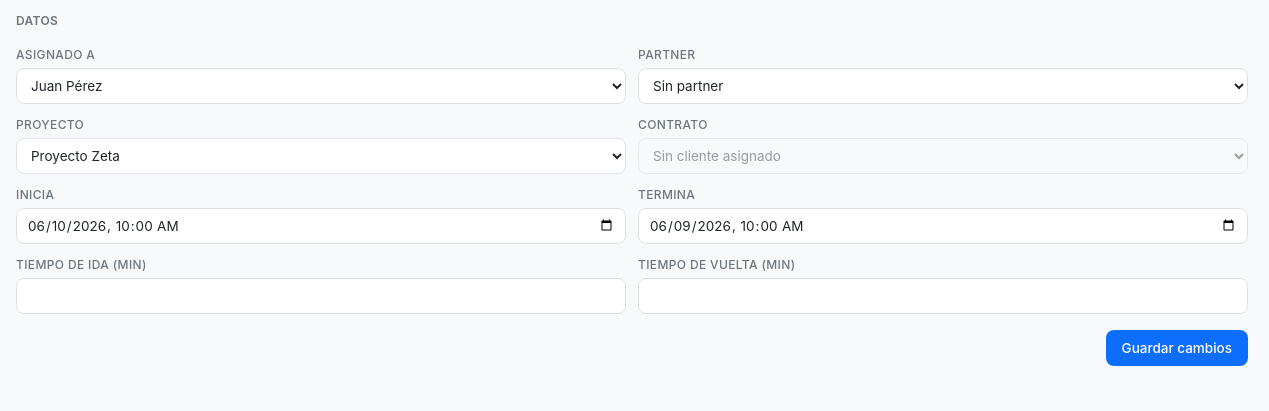
Scenario: DatosForm › shows inline error when endDate is before startDate
Click the button "Guardar cambios" at (1177, 348), box [1106,330,1248,366]
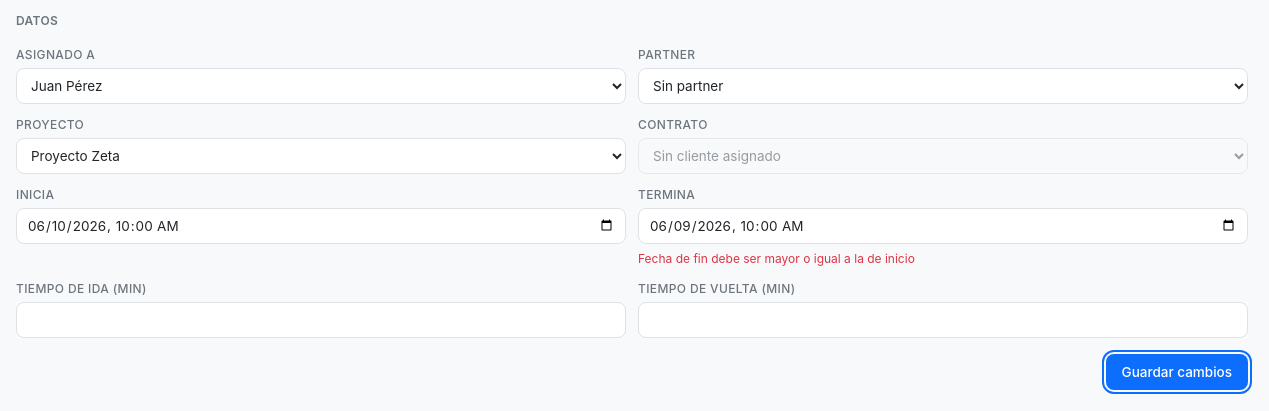
expect the text "Fecha de fin debe ser mayor o igual a la de inicio" is shown: met, box [638,251,915,266]
